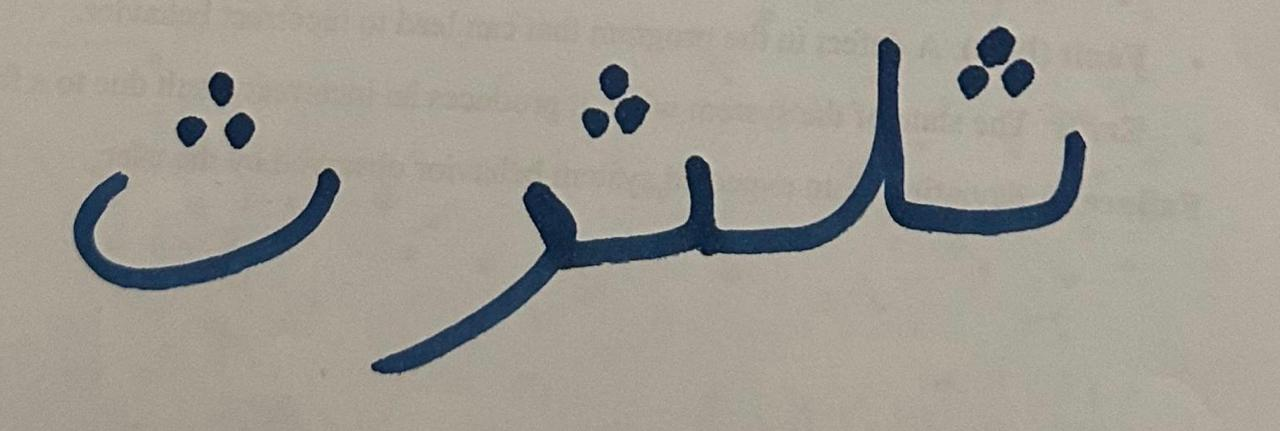meem: (749, 22, 928, 279)
waw: (59, 35, 354, 323), (582, 13, 745, 328), (931, 7, 1113, 284)
yeh: (358, 140, 579, 397)
